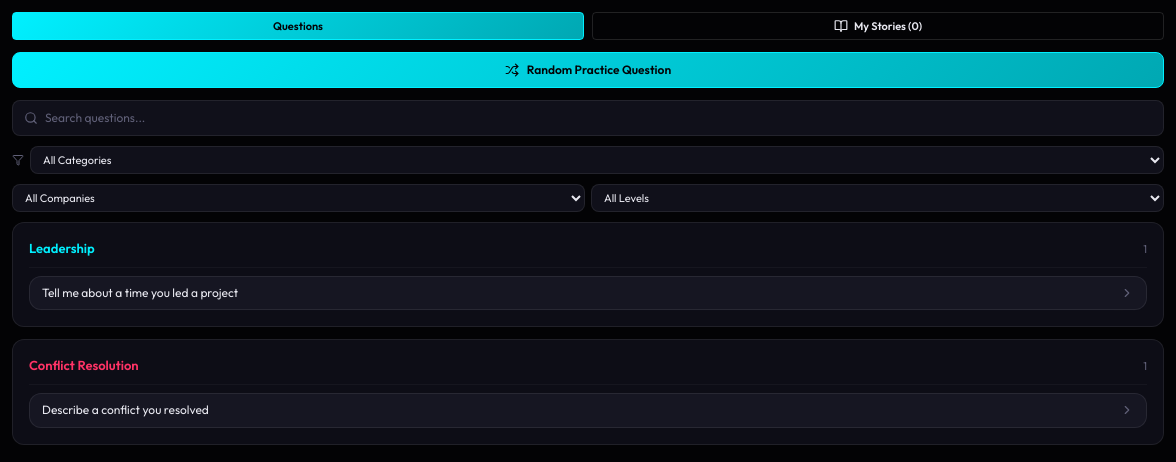
Test: BehavioralPanel › filter behavior › clear search button removes search text
Type "conflict" into the field with placeholder "Search questions...".
click(588, 118); type("conflict")  # box [12, 100, 1164, 136]
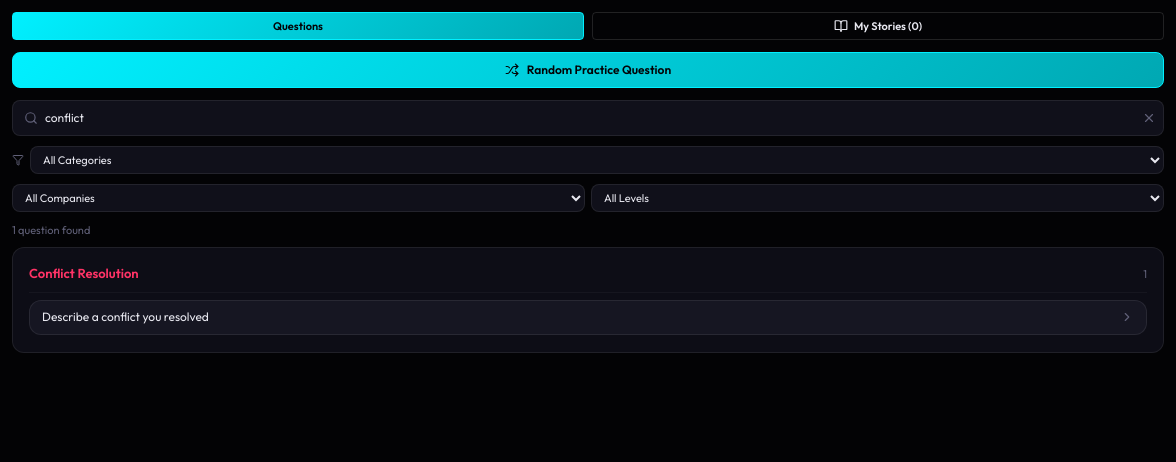
Click the button named "Clear search".
click(1149, 118)  # box [1142, 111, 1156, 125]
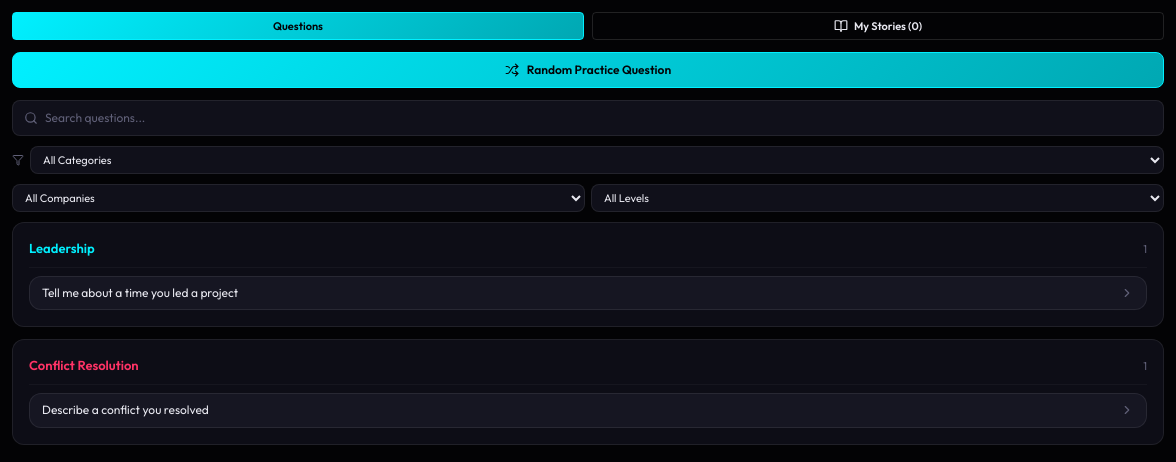
expect the text "1 question found" is gone: met
